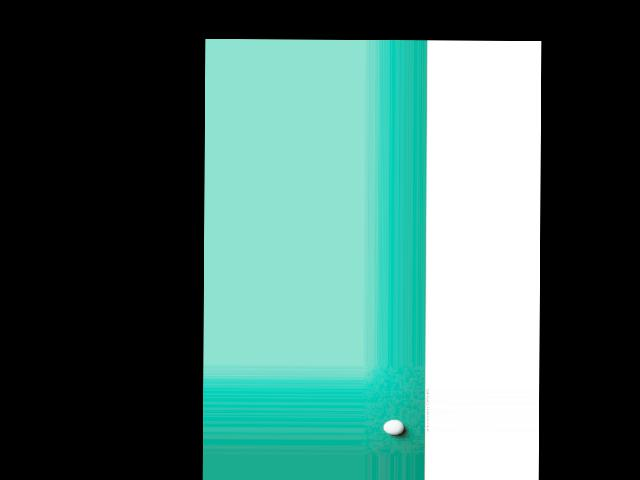egg: (383, 418, 404, 434)
